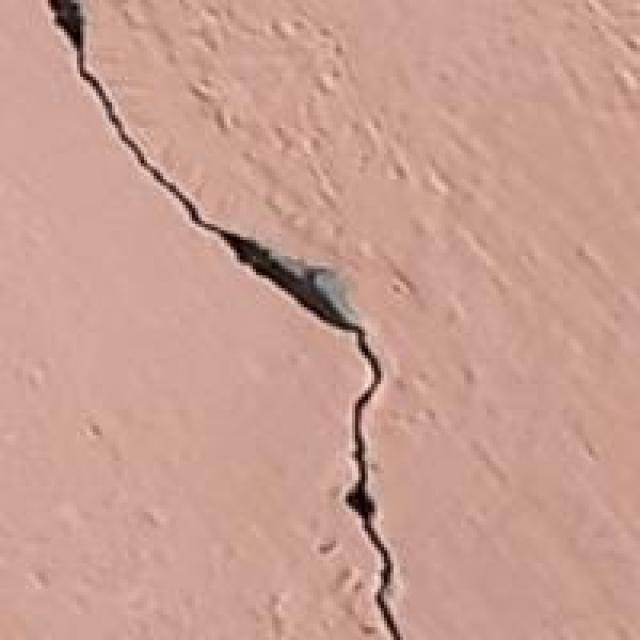crack: (29, 0, 451, 637)
